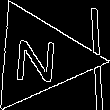N_N: (15, 31, 64, 84)
